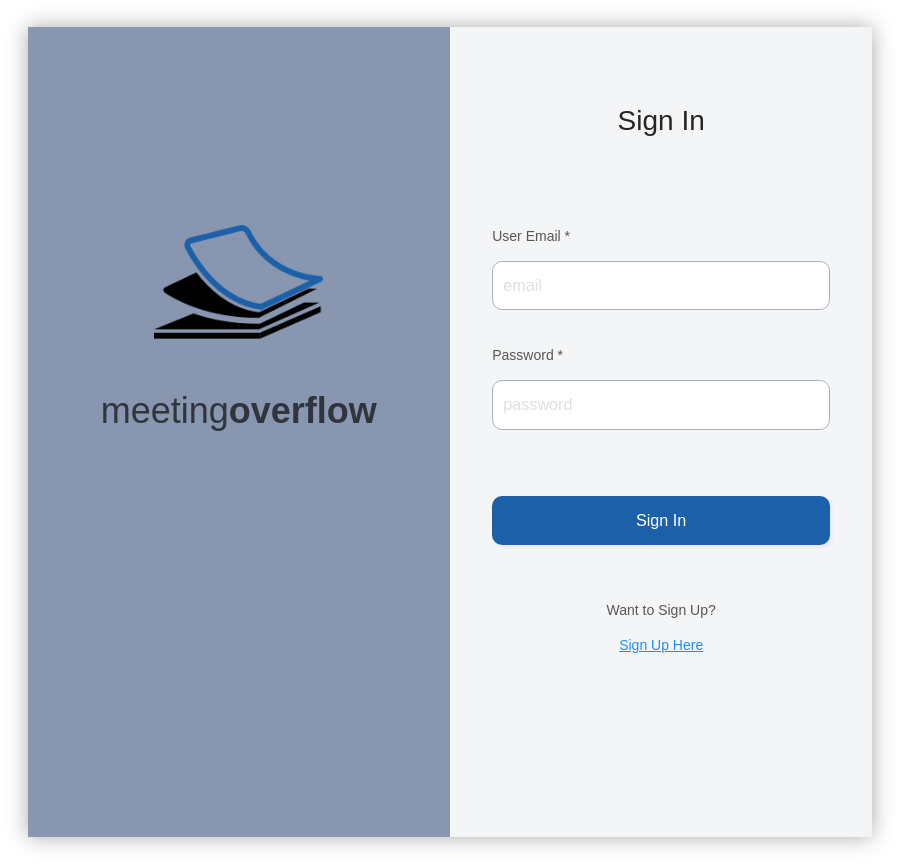
Test: <SignIn /> › should show error message when corresponding user is not in DB.
In the field with id "email-input": (661, 285) [492,260,830,310], type "nonexisting@test.com"
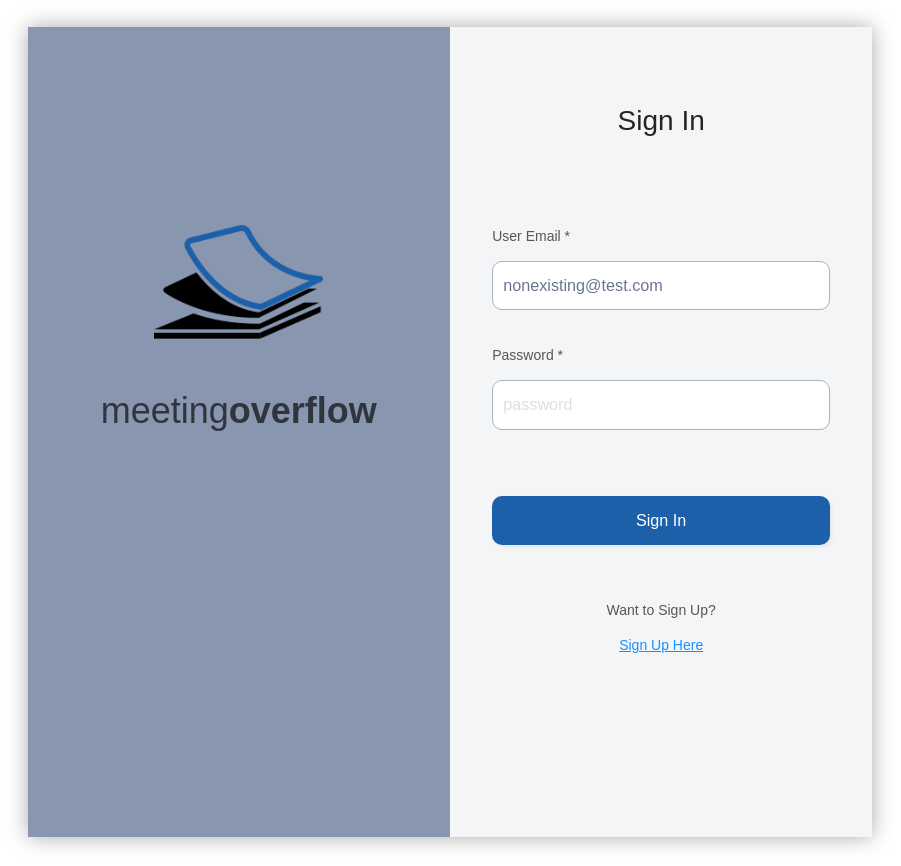
In the password field with placeholder "password": (661, 405) [492,380,830,430], type "Testpassword12!@"
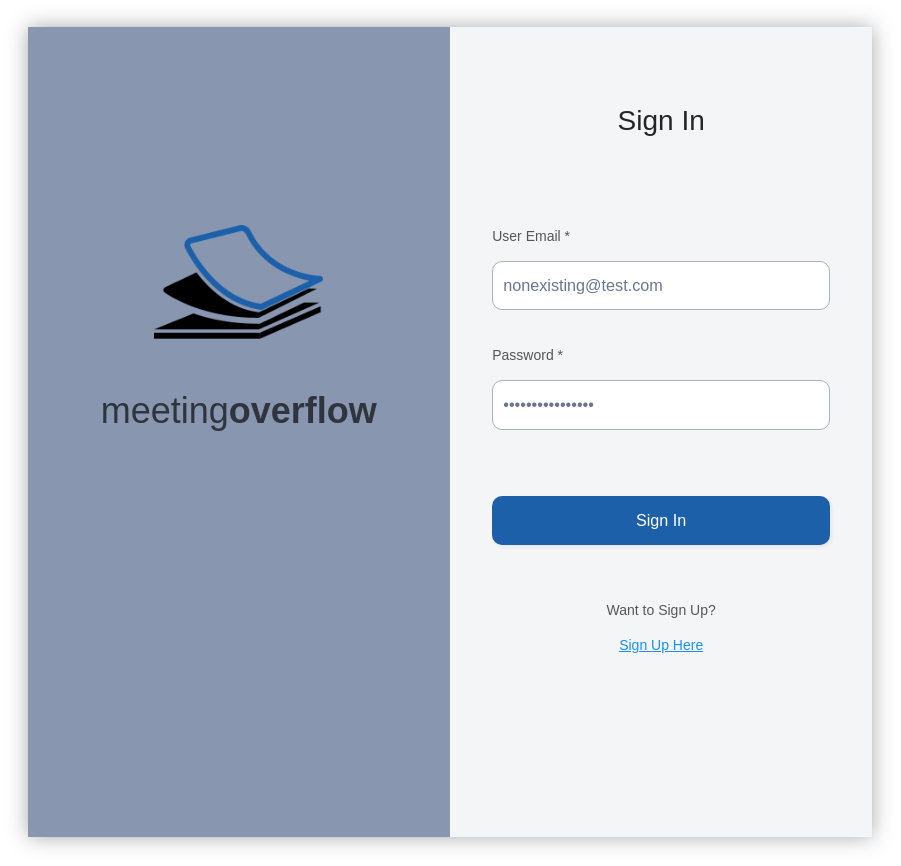
Click the button with id "sign_in_button": (661, 520) [492,496,830,545]
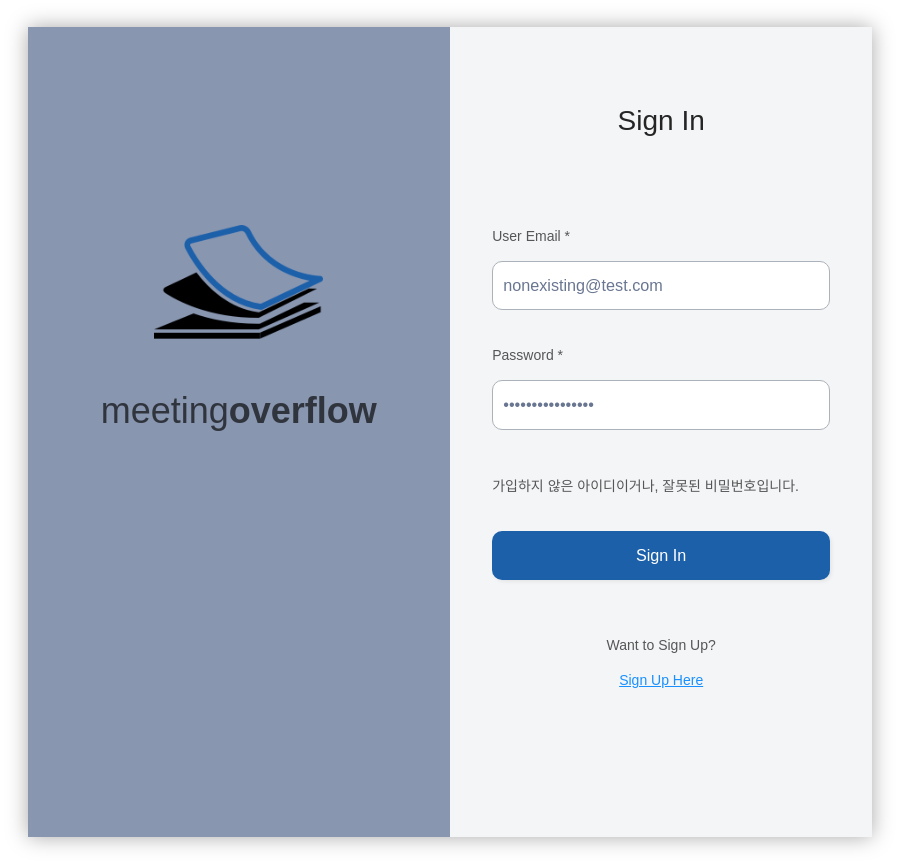
Expected: the text "가입하지 않은 아이디이거나, 잘못된 비밀번호입니다." is shown, [492,476,830,496]
